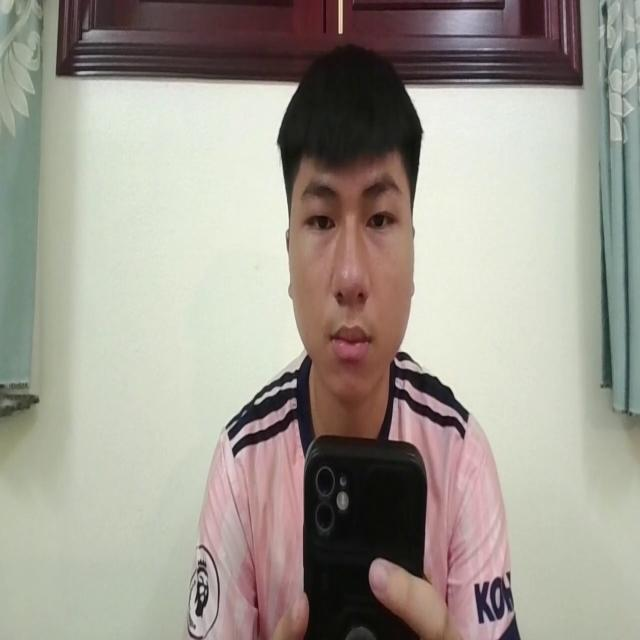phone: (295, 424, 428, 630)
student: (190, 37, 518, 640)
